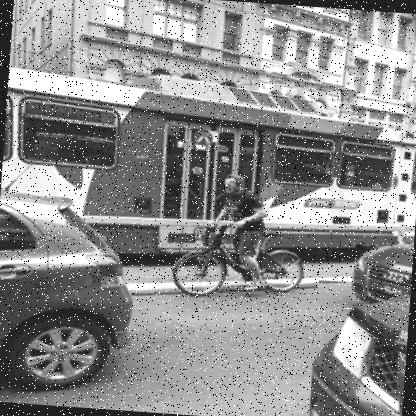Car: (0, 149, 147, 393), (308, 280, 411, 415), (352, 238, 414, 309)
